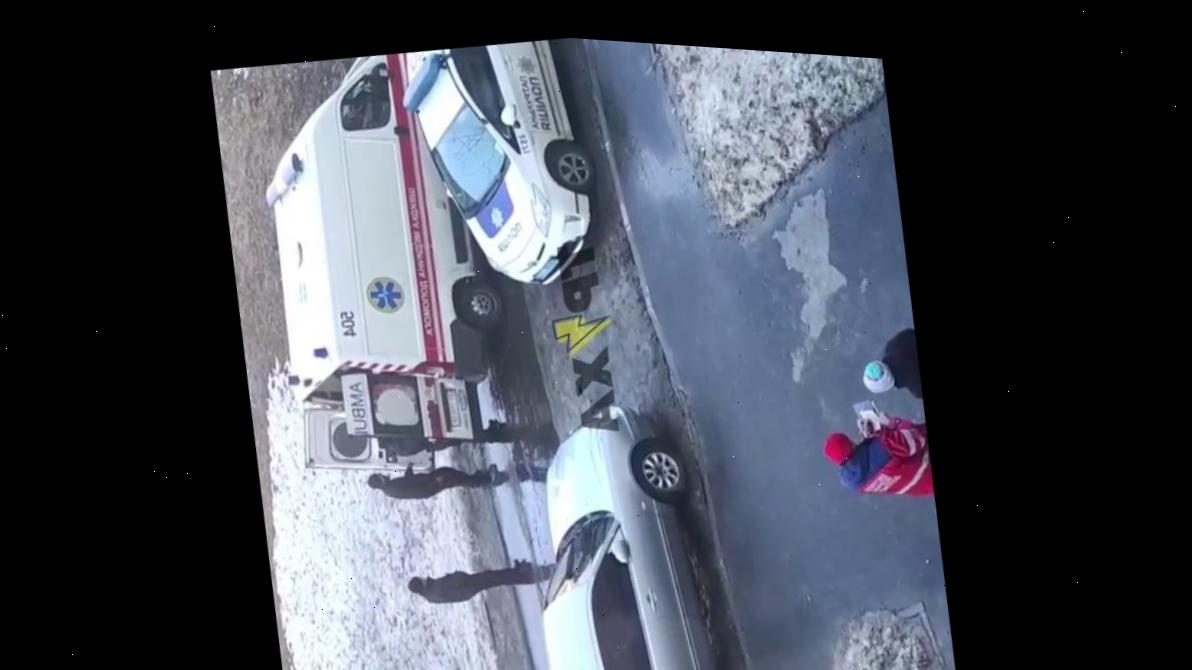car: (504, 378, 762, 670), (388, 27, 619, 307)
person: (813, 387, 938, 511), (364, 444, 501, 512), (403, 547, 535, 615), (855, 321, 927, 416)
